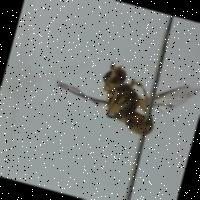Oriental-fruit-fly: (38, 39, 200, 159)
